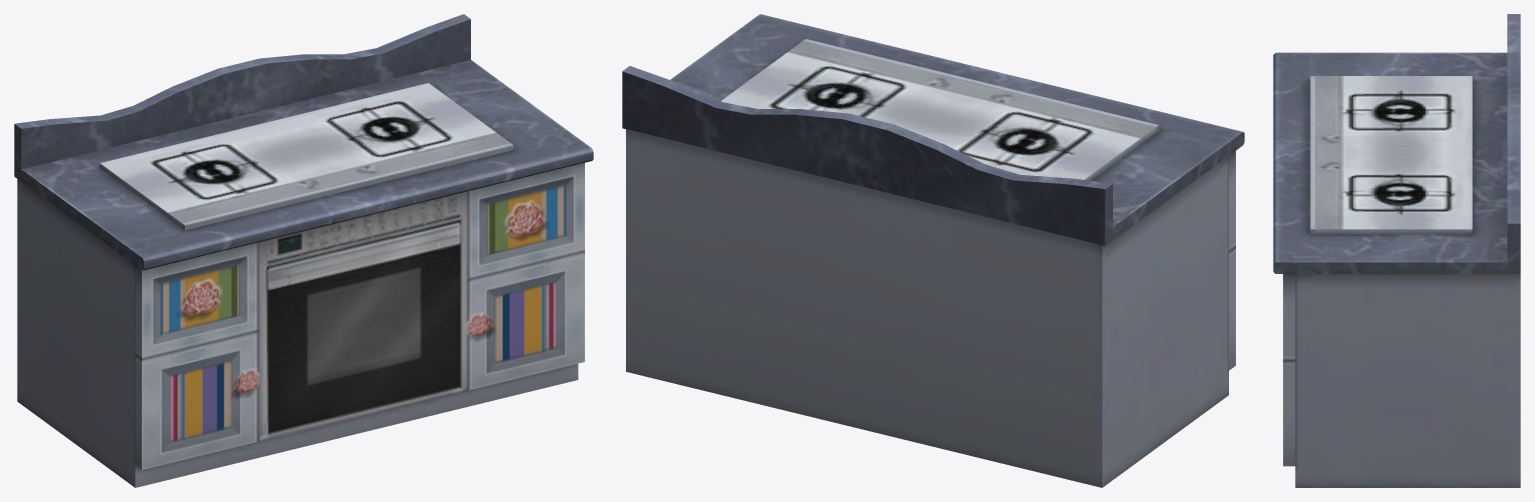
File: furni_0200617.FBX
The picture shows the model from 3 angles, left to right: view 1: azimuth 30°, elevation 25°; view 2: azimuth 150°, elevation 25°; view 3: azimuth 270°, elevation 25°; orthographic projection. The views are drawn at different scales.
Parts seen in each view (by area): view 1: furni_0200617; view 2: furni_0200617; view 3: furni_0200617.
Part boxes in pixels (x1,y1,x2,y2): furni_0200617: (14, 14, 593, 487); furni_0200617: (622, 14, 1244, 487); furni_0200617: (1273, 14, 1520, 487).
Bounding box in the file's own units: 160 × 96.53 × 79.84.
Materials: 1 (1 with a texture image).
